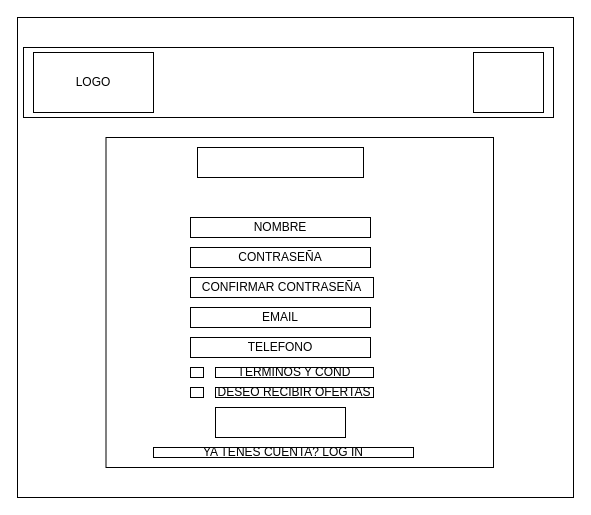
Some shapes in this 591 by 515 pixel diagram are drawn without their labels. The centre of each missing label's shape, as x and y in pixels:
"MENU HAM" belongs at [508,82].
"REGISTRAR" belongs at [280,422].
"REGISTRO" belongs at [280,162].
